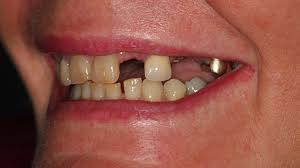decay: (172, 57, 191, 80), (191, 58, 210, 79), (211, 58, 225, 75)
normal: (146, 56, 171, 81), (57, 61, 70, 84), (90, 84, 104, 100), (186, 80, 204, 92), (74, 84, 82, 101), (82, 84, 90, 101)
rough: (119, 56, 146, 82), (122, 77, 142, 100)
yellow: (93, 57, 119, 83), (70, 57, 92, 83), (141, 80, 163, 101), (163, 81, 185, 100), (105, 84, 121, 100)
